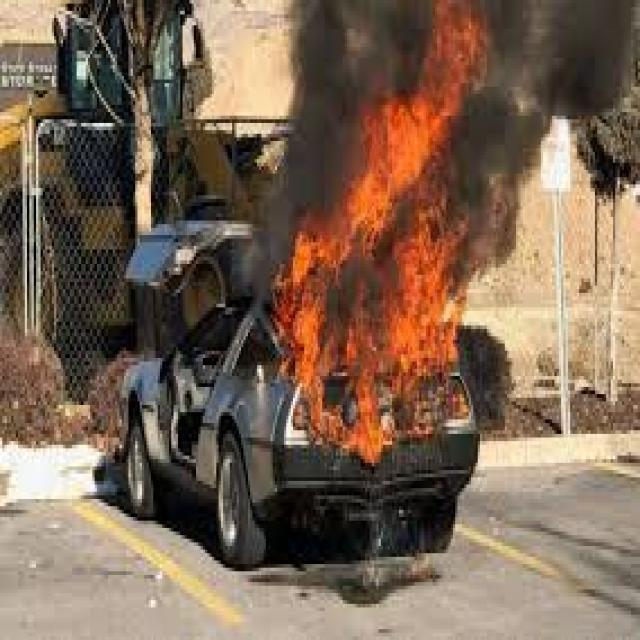fire: (282, 4, 498, 462)
smoke: (489, 11, 640, 286), (244, 4, 342, 217), (225, 192, 293, 311)
